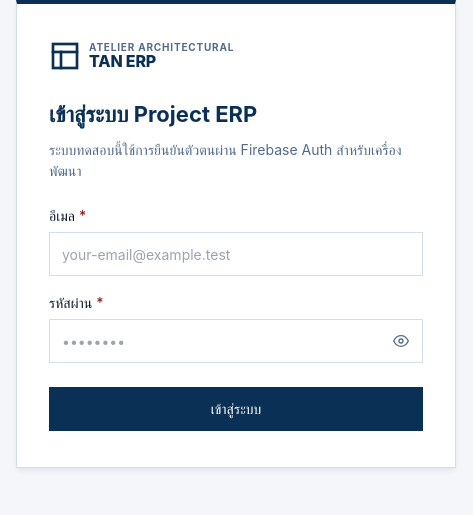
Test: LoginForm Component › shows error for invalid email format
Type "invalid-email" into the field labelled "อีเมล *" at (236, 254), box [49,232,423,276]
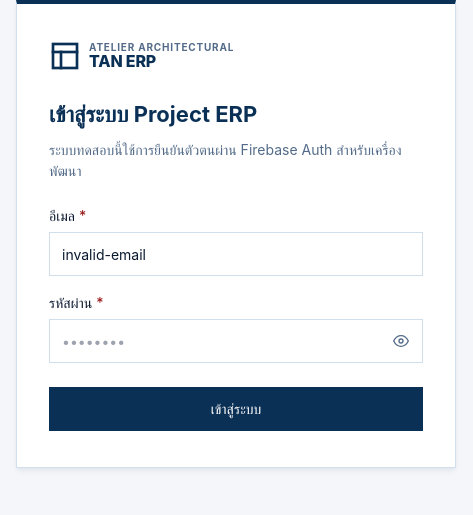
Type "password123" into the password field labelled "รหัสผ่าน *" at (236, 341), box [49,319,423,363]
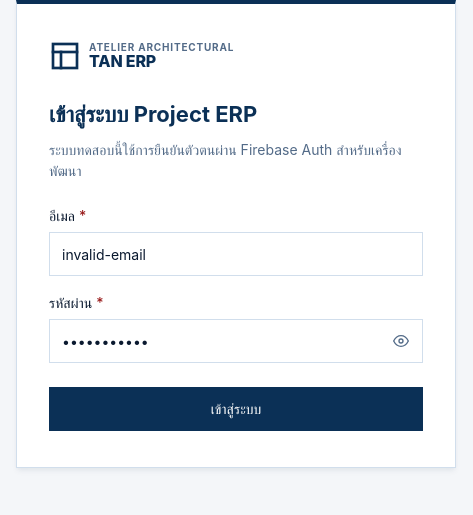
Click the button "เข้าสู่ระบบ" at (236, 409), box [49,387,423,431]
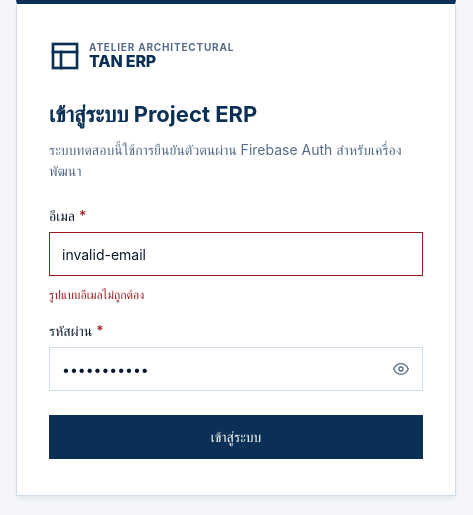
Check: the text "รูปแบบอีเมลไม่ถูกต้อง" is shown, box [49,287,144,302]
